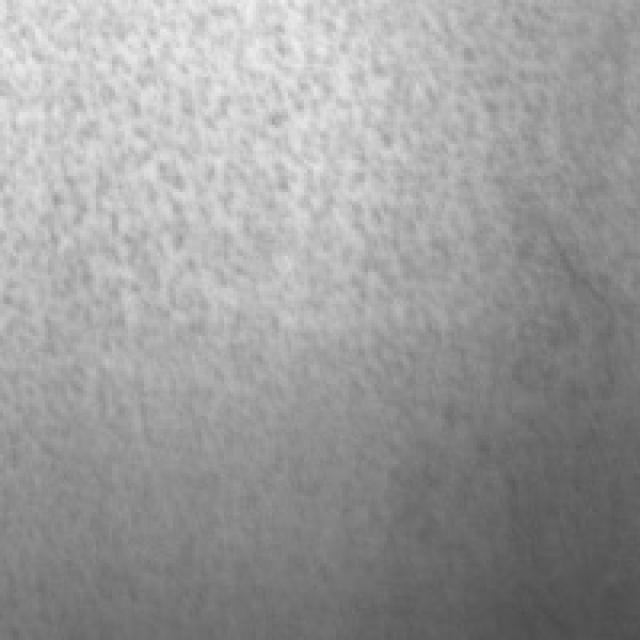pitted_surface: (0, 0, 627, 582)
